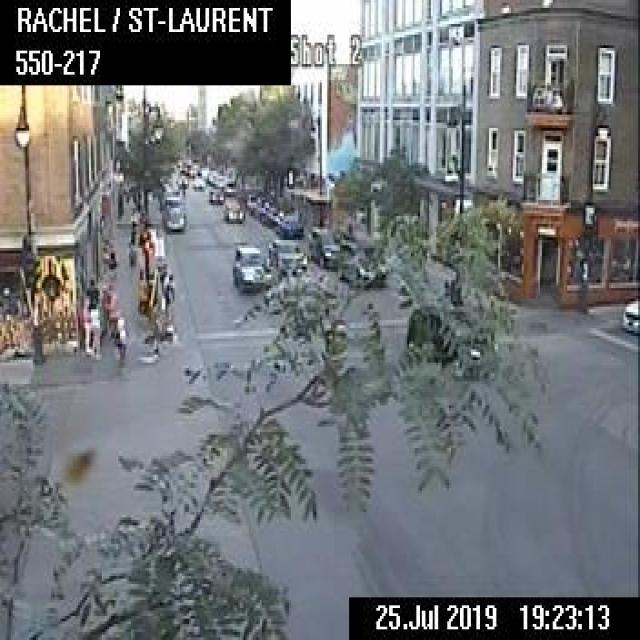pedestrian: (82, 275, 98, 357), (160, 267, 175, 328), (100, 274, 113, 332)
vehicle: (402, 301, 493, 379), (340, 240, 386, 286), (230, 240, 268, 289), (307, 225, 345, 265), (268, 239, 306, 276), (620, 293, 638, 336), (277, 212, 302, 236), (164, 200, 184, 228), (252, 192, 272, 218), (263, 201, 284, 225), (222, 198, 244, 219), (209, 187, 223, 200), (192, 176, 205, 187)
